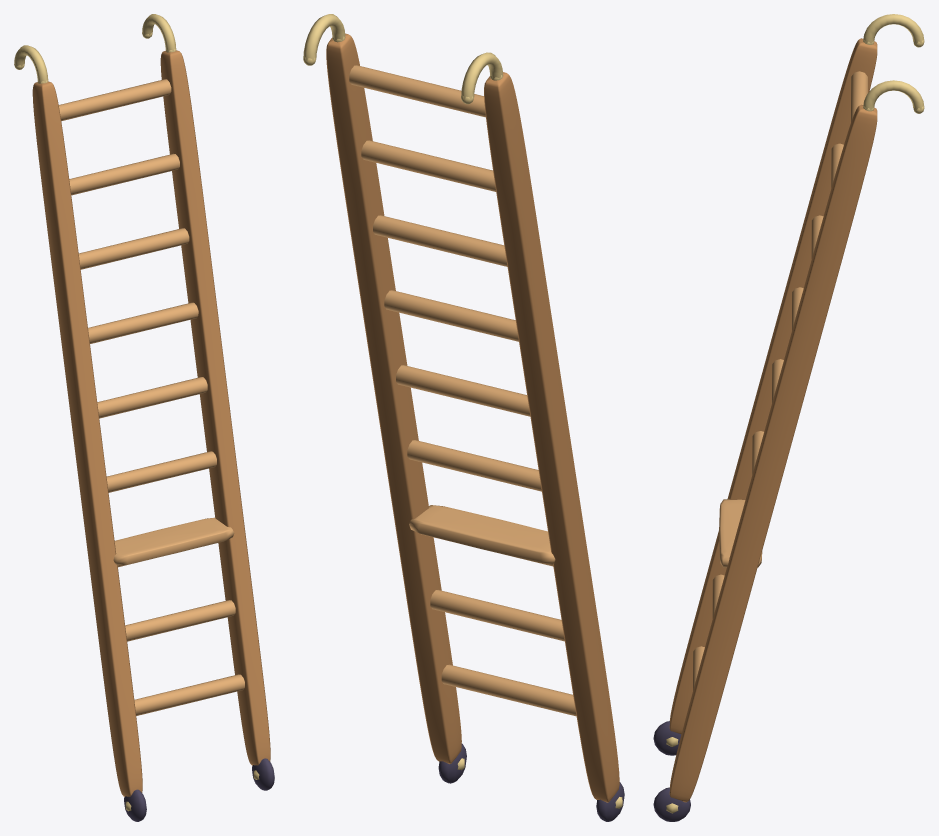
The model's file is ladder.glb.
3 renders of one model, left to right at view 1: azimuth 30°, elevation 25°; view 2: azimuth 150°, elevation 25°; view 3: azimuth 270°, elevation 25°, orthographic. The views are drawn at different scales.
Parts seen in each view (by area): view 1: ladder; view 2: ladder; view 3: ladder.
Part boxes in pixels (x1,y1,x2,y2): ladder: (14,14,274,821); ladder: (303,14,624,821); ladder: (653,14,924,821).
Size of the model in its own units: 0.5761 by 2.6 by 0.8628.
1 material, 1 textured.
